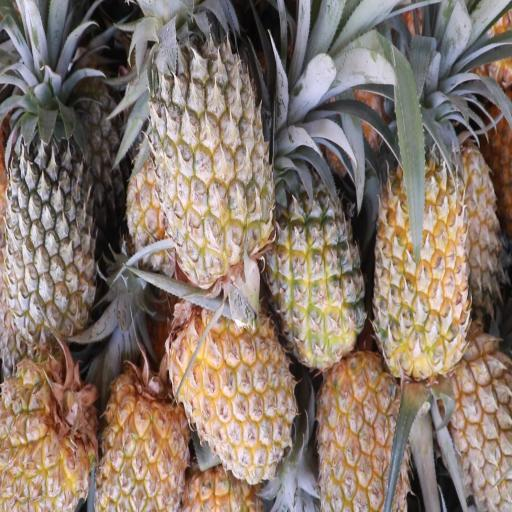------------------------------: (146, 0, 278, 310), (264, 125, 368, 377)
Pineapple - v8 v1: (366, 88, 473, 388), (166, 274, 301, 490), (0, 344, 104, 510), (314, 350, 416, 512), (94, 360, 193, 512), (445, 504, 451, 512)
